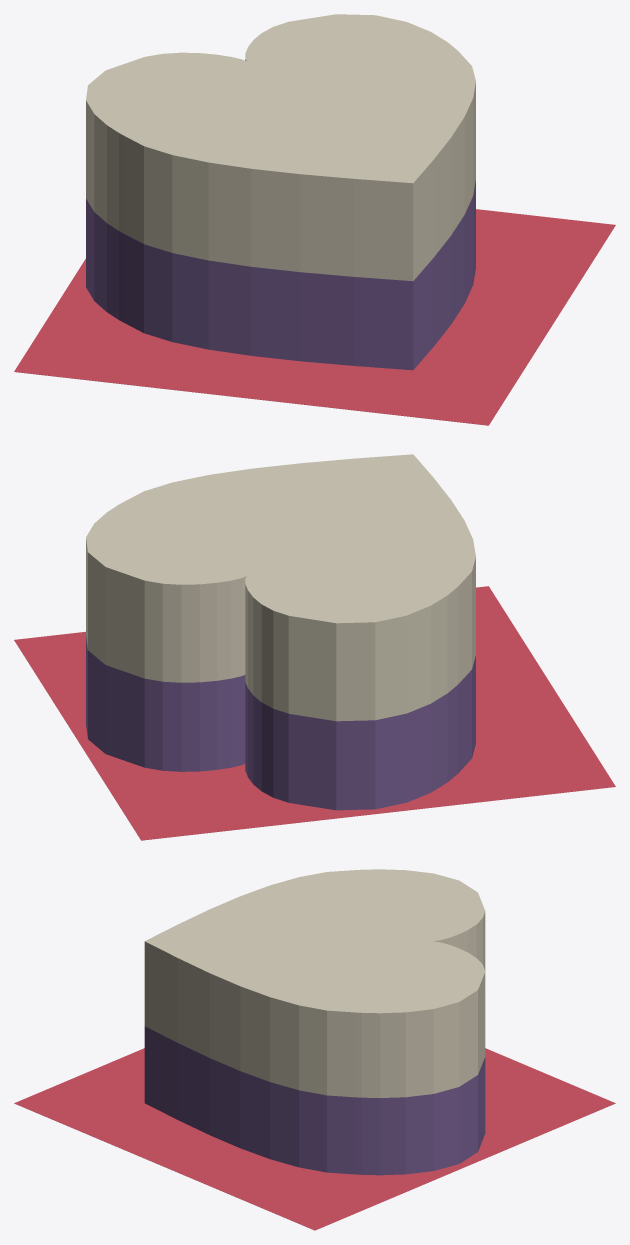
The model's file is UVV.glb.
3 renders of one model, top to bottom at view 1: azimuth 30°, elevation 25°; view 2: azimuth 150°, elevation 25°; view 3: azimuth 270°, elevation 25°, orthographic. The views are drawn at different scales.
Visible parts, largest first — view 1: Mesh_Mesh_head_geo.001_lambert2SG.001; view 2: Mesh_Mesh_head_geo.001_lambert2SG.001; view 3: Mesh_Mesh_head_geo.001_lambert2SG.001.
Part boxes in pixels (box(x1,y1,x2,y2)): Mesh_Mesh_head_geo.001_lambert2SG.001: box(14, 14, 615, 425); Mesh_Mesh_head_geo.001_lambert2SG.001: box(14, 454, 615, 840); Mesh_Mesh_head_geo.001_lambert2SG.001: box(14, 869, 615, 1230).
Size of the model in its own units: 0.0354 by 0.0105 by 0.0354.
